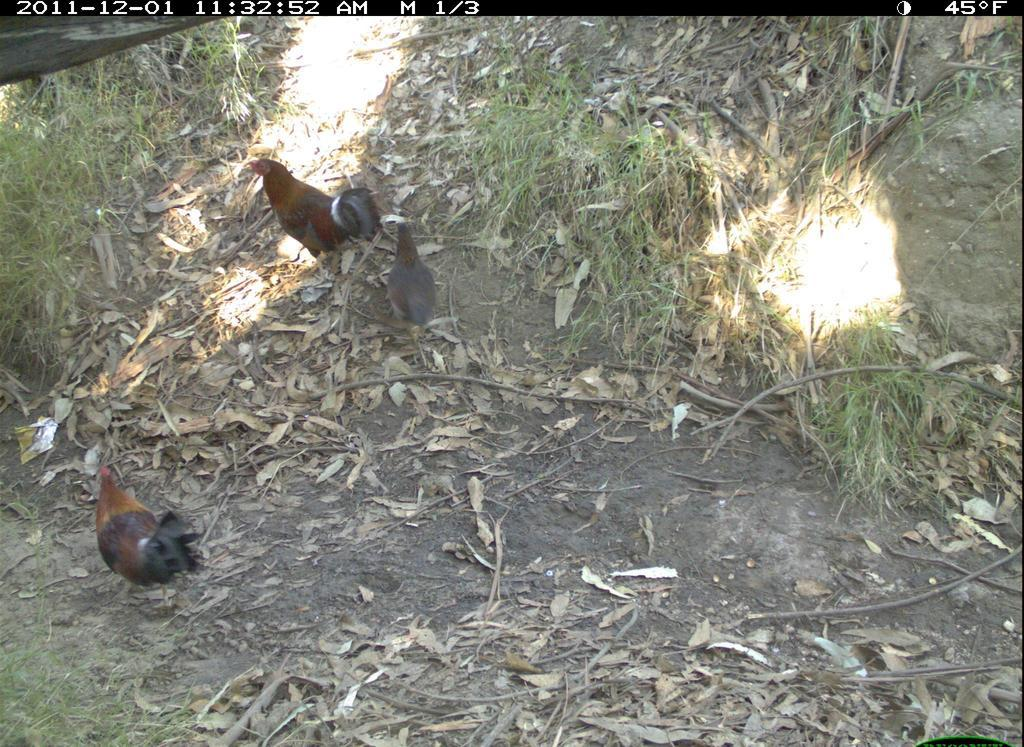bird: (88, 466, 208, 596), (251, 155, 374, 272), (382, 225, 443, 347)
